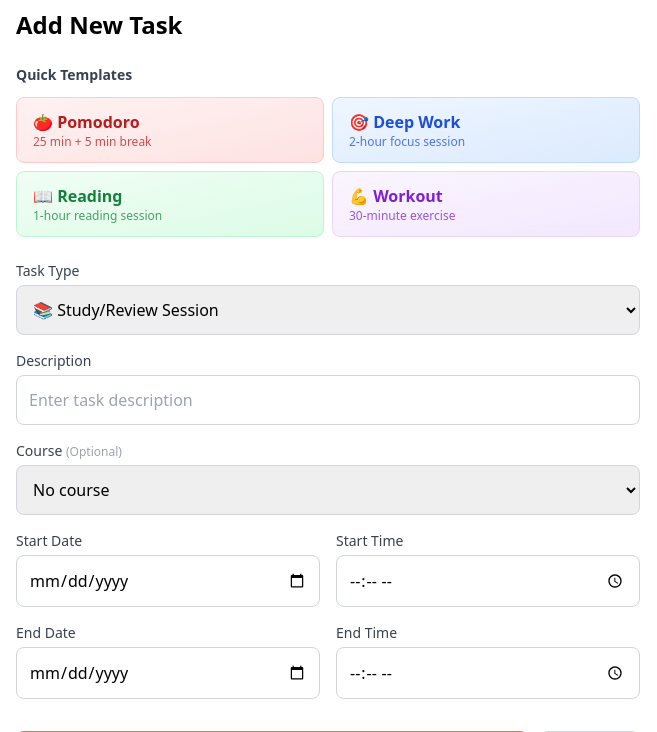
Test: AddTaskComponent › Assignment Selection › shows assignment dropdown when course is selected
Select "CSC491 - Capstone Project" in the dropdown below "Course" at point(328, 490), box [16,465,640,515]
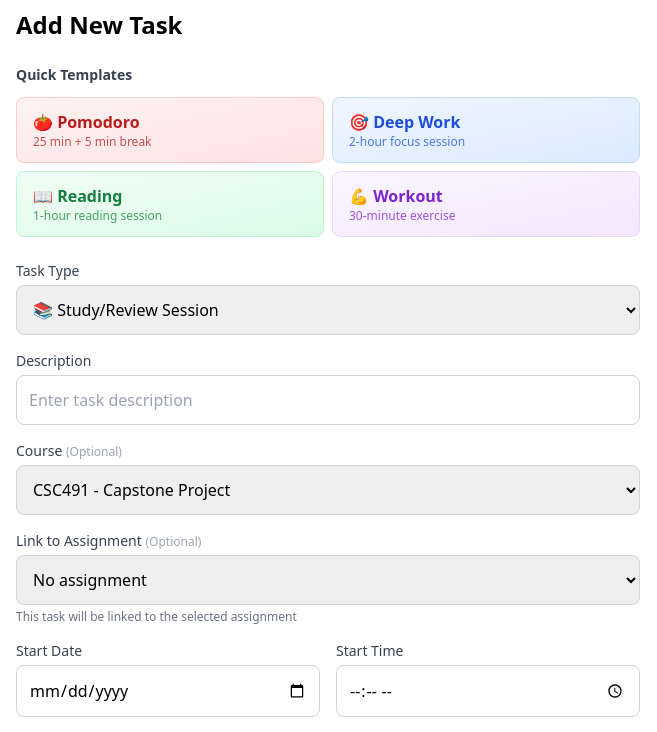
Now the text "Link to Assignment" is shown, box [16,531,146,550]
